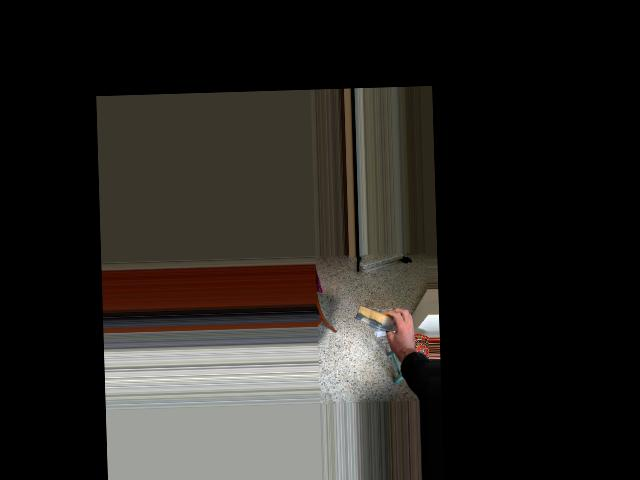cheese: (351, 300, 406, 337)
